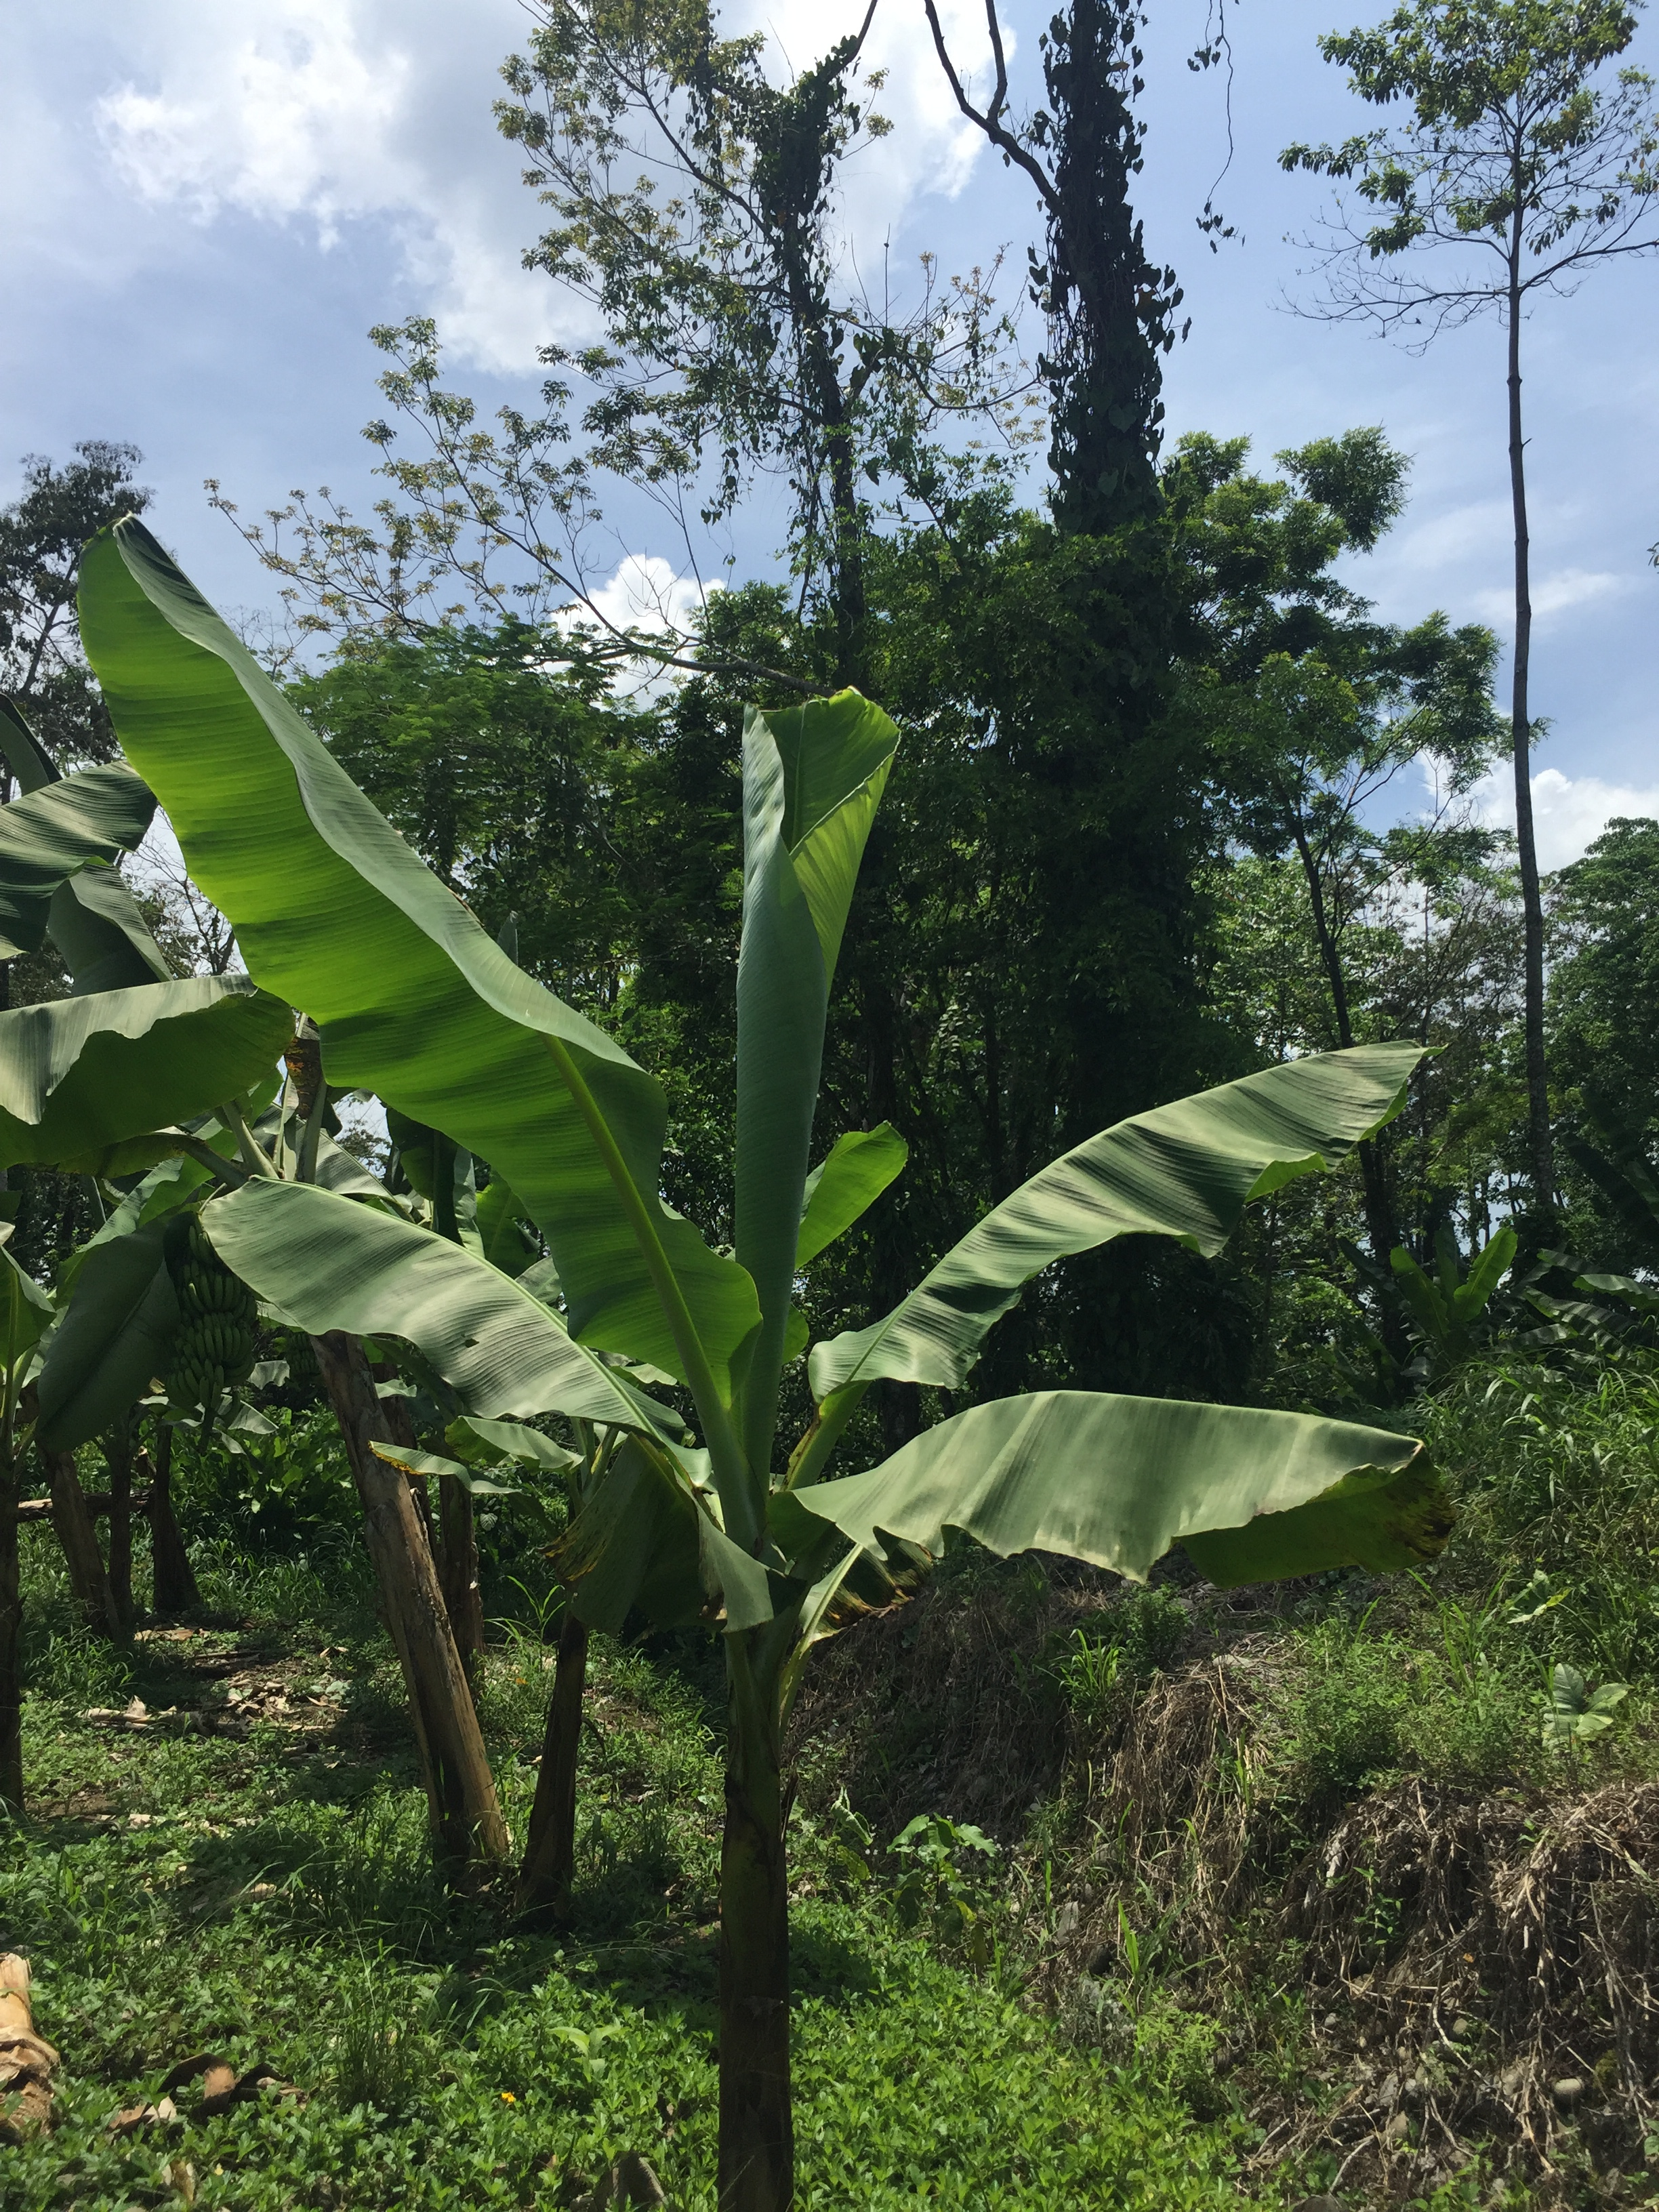candleleafs: (741, 695, 896, 1470)
